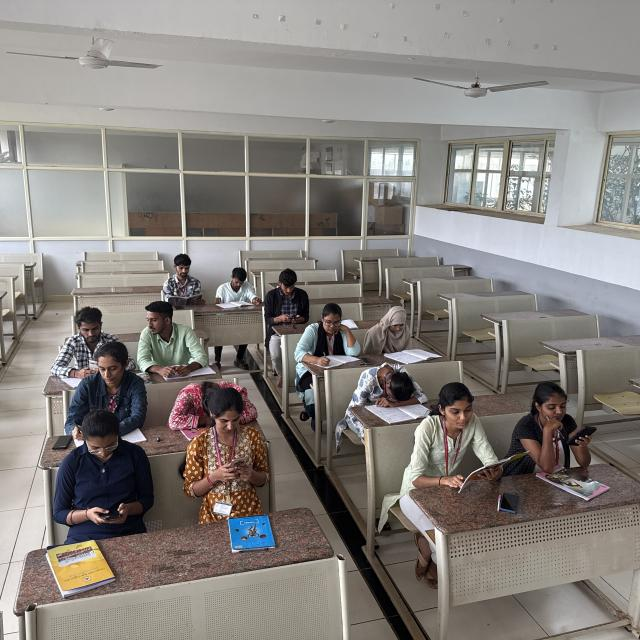Reading: (417, 376, 523, 486), (371, 304, 436, 361), (162, 254, 209, 310)
Sleeping: (166, 375, 262, 430), (347, 356, 426, 411)
Using Phone: (54, 415, 152, 539), (186, 384, 280, 508), (514, 373, 609, 466), (46, 304, 123, 380), (262, 265, 314, 327)
Writing: (298, 301, 359, 370), (212, 262, 264, 311)
